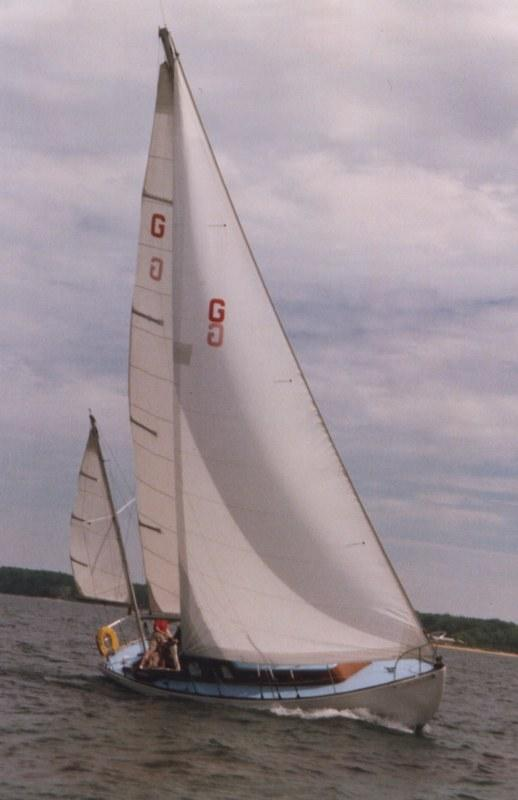Ship: (68, 27, 447, 736)
